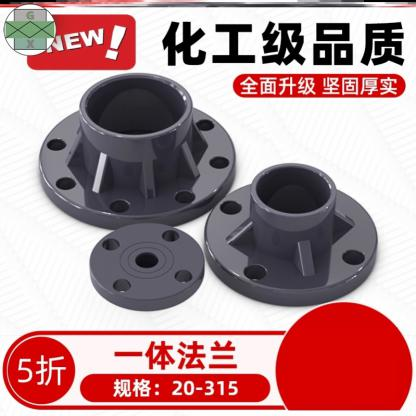FOD: (34, 66, 242, 229), (205, 157, 382, 311), (84, 222, 208, 312)
